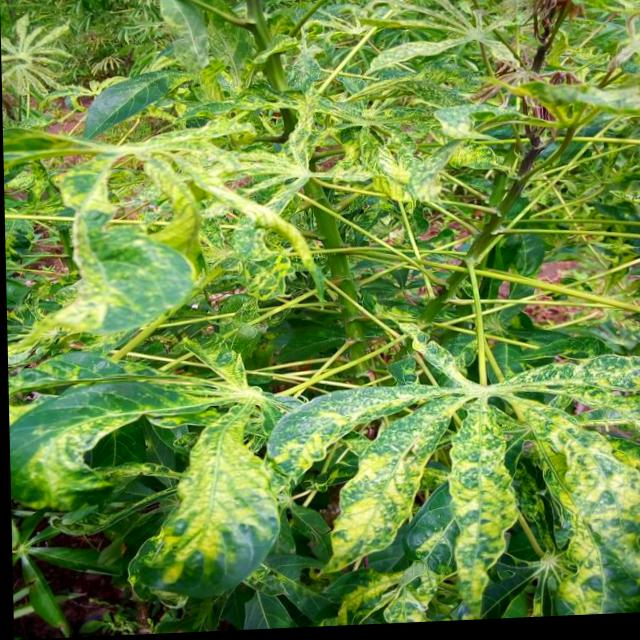Mosaico: (289, 331, 640, 564), (39, 110, 322, 342), (29, 332, 302, 572)
